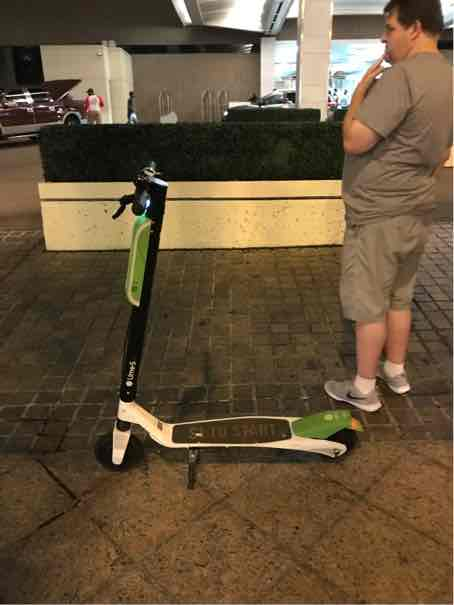scooter: (86, 152, 375, 481)
